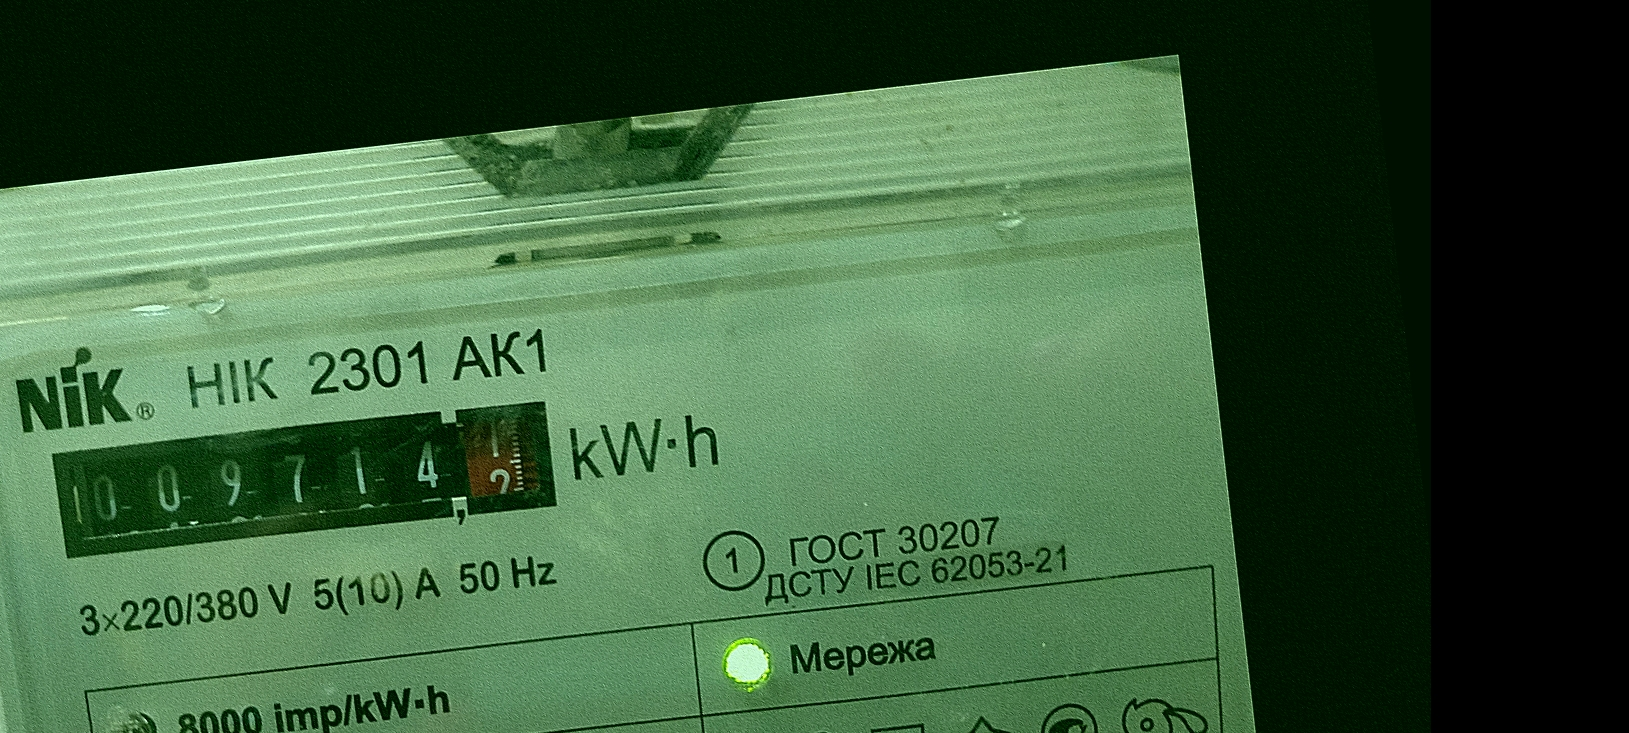0: (88, 471, 123, 527), (152, 460, 184, 516)
1: (345, 442, 374, 499), (484, 418, 504, 462)
2: (487, 465, 514, 498)
4: (410, 438, 444, 495)
7: (281, 452, 313, 508)
9: (214, 456, 248, 511)
screen: (36, 381, 577, 583)
